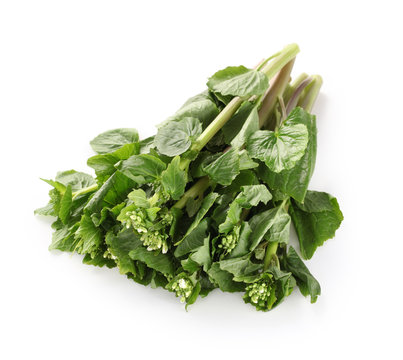Bayam: (56, 35, 367, 340)
